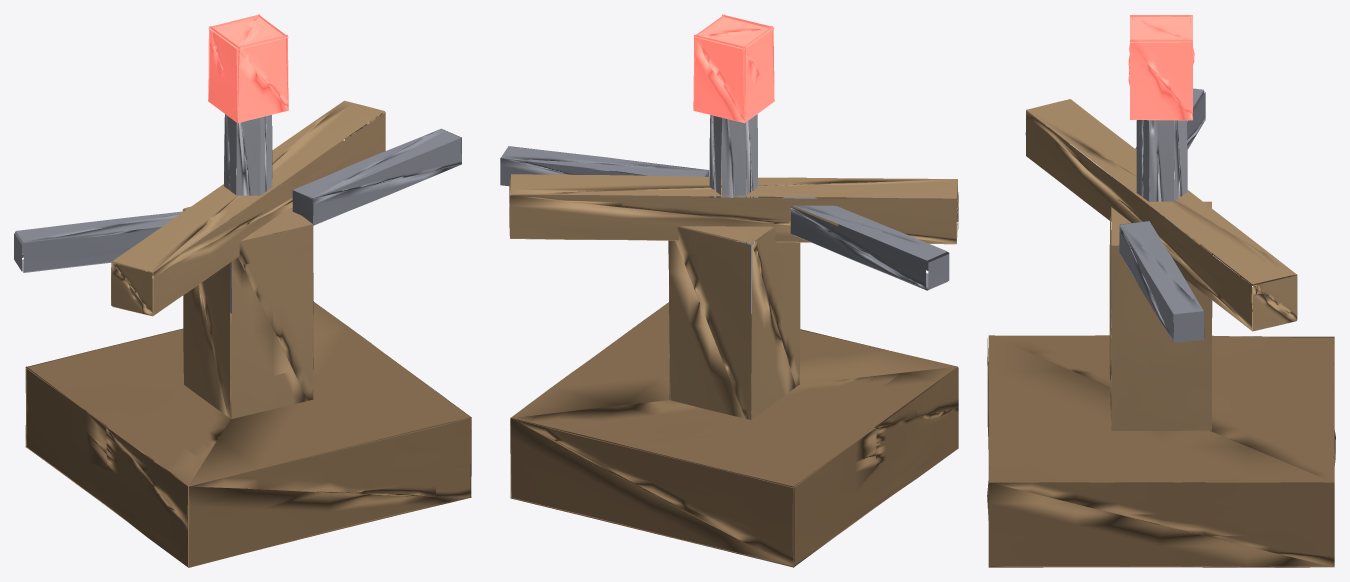
File: ballista.glb
The picture shows the model from 3 angles, left to right: view 1: azimuth 30°, elevation 25°; view 2: azimuth 150°, elevation 25°; view 3: azimuth 270°, elevation 25°; orthographic projection. The views are drawn at different scales.
Visible parts, largest first — view 1: BallistaBase; view 2: BallistaBase; view 3: BallistaBase.
Part boxes in pixels (x1,y1,x2,y2): BallistaBase: (14, 14, 471, 567); BallistaBase: (500, 14, 958, 567); BallistaBase: (987, 14, 1335, 567).
Size of the model in its own units: 1.71 by 1.65 by 1.11.
